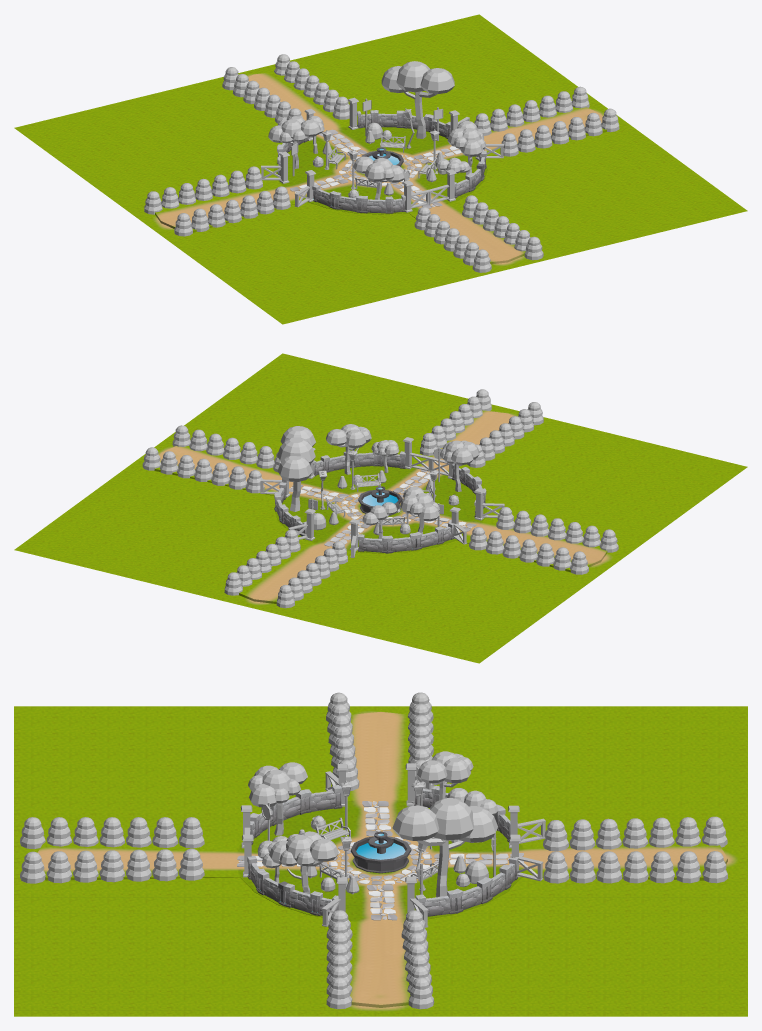
Rendered from ParqueFBX.fbx.
3 renders of one model, top to bottom at view 1: azimuth 30°, elevation 25°; view 2: azimuth 150°, elevation 25°; view 3: azimuth 270°, elevation 25°, orthographic. The views are drawn at different scales.
Parts seen in each view (by area): view 1: planoTerreno, Base1, arbol2, arbolNaranja2, arbol1, arbol3; view 2: planoTerreno, Base1, arbol2, arbolNaranja2, arbol3, arbol1, fuente, arbol4; view 3: planoTerreno, Base1, arbol2, arbol1, arbol3, bush.022 (×3), bush.023 (×3), fuente, arbolNaranja2, bush.029 (×2), bush.016 (×2), bush.028 (×2) (+10 smaller).
Boxes of the visible parts, bbox=[...] form: planoTerreno: bbox=[14, 14, 747, 324]; Base1: bbox=[155, 72, 606, 264]; arbol2: bbox=[381, 61, 454, 138]; arbolNaranja2: bbox=[268, 116, 320, 168]; arbol1: bbox=[353, 156, 405, 199]; arbol3: bbox=[447, 121, 485, 175]; planoTerreno: bbox=[14, 353, 747, 663]; Base1: bbox=[154, 410, 607, 603]; arbol2: bbox=[277, 426, 315, 511]; arbolNaranja2: bbox=[400, 486, 439, 534]; arbol3: bbox=[326, 424, 371, 474]; arbol1: bbox=[440, 440, 479, 491]; fuente: bbox=[358, 486, 402, 515]; arbol4: bbox=[362, 502, 397, 538]; planoTerreno: bbox=[14, 706, 747, 1016]; Base1: bbox=[37, 712, 727, 1007]; arbol2: bbox=[392, 798, 497, 897]; arbol1: bbox=[248, 762, 307, 835]; arbol3: bbox=[269, 831, 338, 894]; bush.022 (×3): bbox=[20, 817, 728, 1009]; bush.023 (×3): bbox=[20, 816, 727, 1009]; fuente: bbox=[350, 831, 411, 873]; arbolNaranja2: bbox=[417, 751, 473, 800]; bush.029 (×2): bbox=[178, 820, 568, 880]; bush.016 (×2): bbox=[178, 817, 569, 883]; bush.028 (×2): bbox=[152, 819, 595, 881].
Size of the model in its own units: 970 by 153 by 970.
